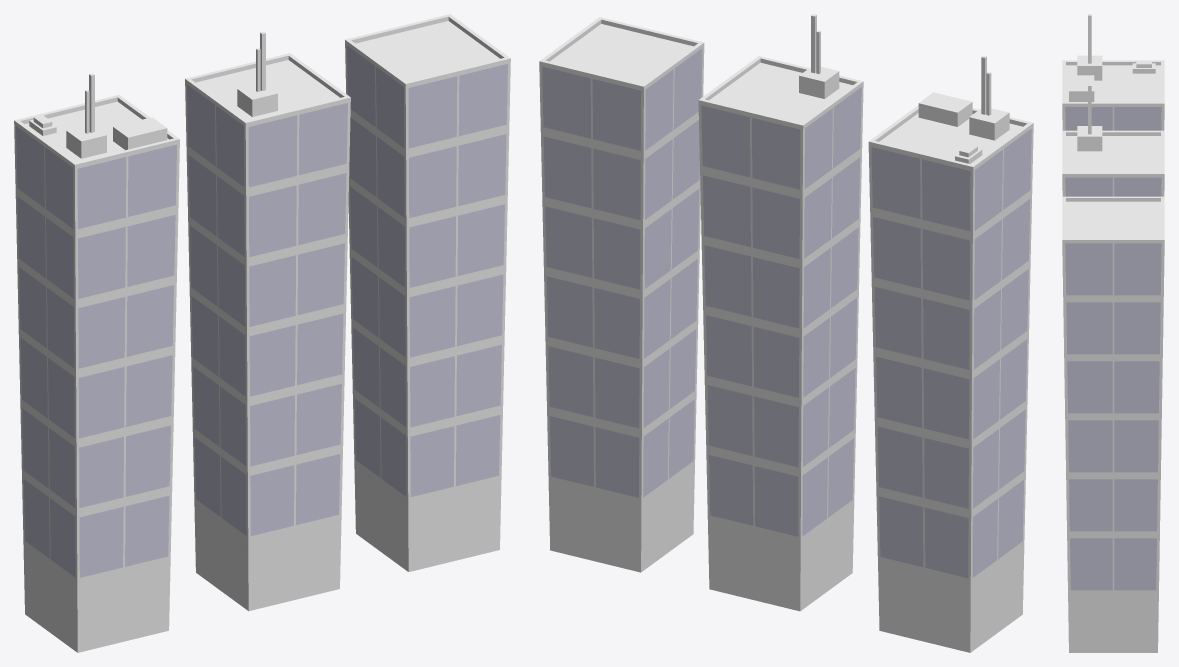
The model's file is Building.fbx.
3 renders of one model, left to right at view 1: azimuth 30°, elevation 25°; view 2: azimuth 150°, elevation 25°; view 3: azimuth 270°, elevation 25°, orthographic. The views are drawn at different scales.
Parts seen in each view (by area): view 1: building03, building02, building01; view 2: building03, building02, building01; view 3: building01, building03, building02.
Part boxes in pixels (left/top/right/bottom): building03: left=14, top=73, right=179, bottom=652; building02: left=185, top=31, right=350, bottom=611; building01: left=345, top=14, right=510, bottom=571; building03: left=868, top=55, right=1033, bottom=652; building02: left=698, top=14, right=863, bottom=611; building01: left=539, top=17, right=704, bottom=572; building01: left=1062, top=196, right=1164, bottom=652; building03: left=1062, top=14, right=1164, bottom=130; building02: left=1062, top=84, right=1164, bottom=196.
Size of the model in its own units: 5.2 by 6.41 by 1.25.
1 material, 1 textured.
